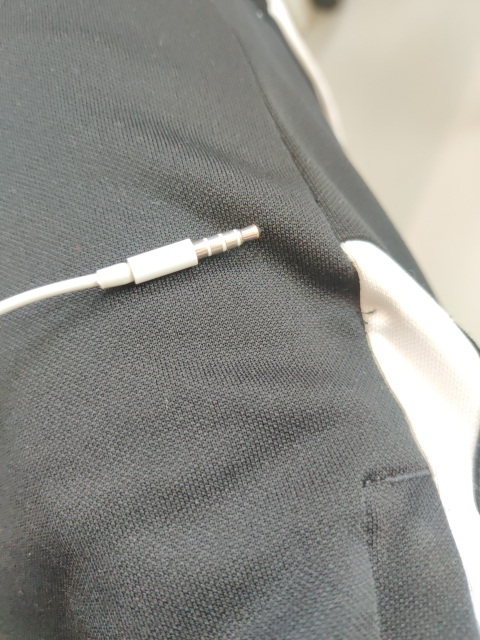3.5mm_audio: (191, 224, 264, 260)
